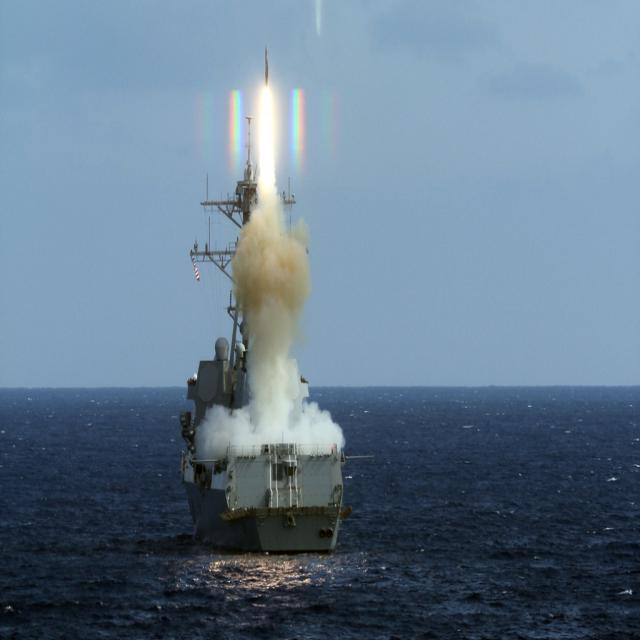missile: (260, 43, 275, 87)
